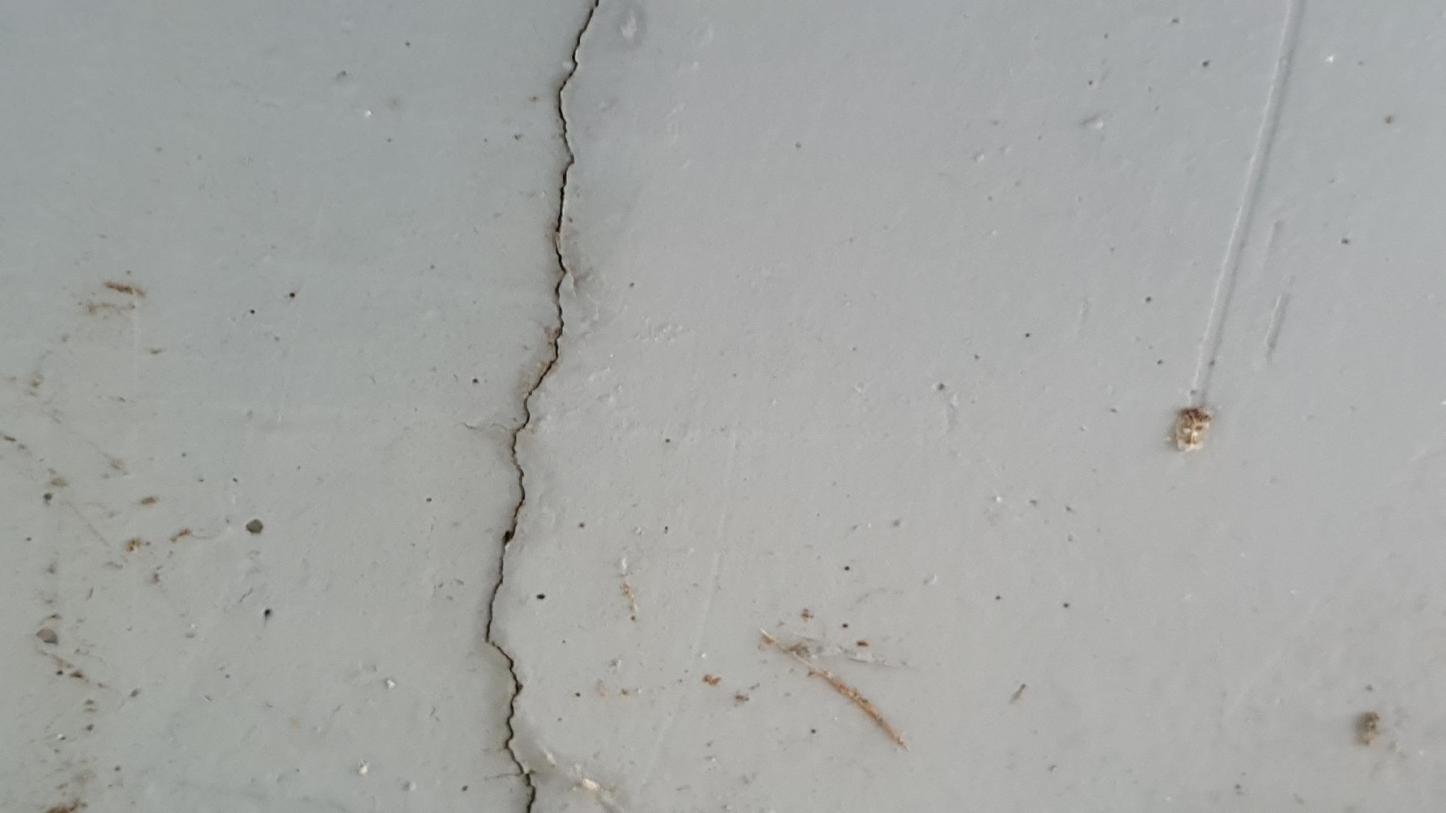crack: (483, 2, 601, 808)
